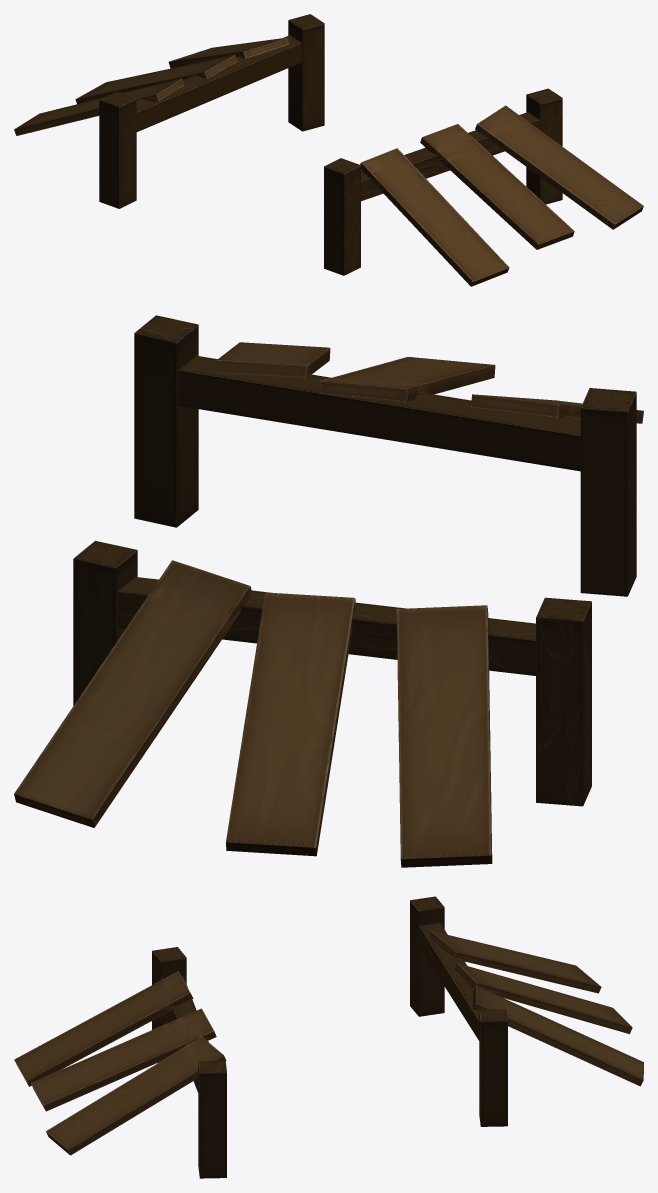
File: SmallWoodBridgeBROKEN.fbx
The picture shows the model from 3 angles, top to bottom: view 1: azimuth 30°, elevation 25°; view 2: azimuth 150°, elevation 25°; view 3: azimuth 270°, elevation 25°; orthographic projection. The views are drawn at different scales.
Parts seen in each view (by area): view 1: Boards_LOW, BoardWalkSupport_LOW; view 2: Boards_LOW, BoardWalkSupport_LOW; view 3: Boards_LOW, BoardWalkSupport_LOW.
Boxes of the visible parts, x1,y1,x2,y2 form: Boards_LOW: [14, 37, 643, 286]; BoardWalkSupport_LOW: [99, 14, 562, 275]; Boards_LOW: [14, 342, 643, 867]; BoardWalkSupport_LOW: [73, 315, 636, 806]; Boards_LOW: [14, 931, 643, 1155]; BoardWalkSupport_LOW: [152, 896, 507, 1178].
Size of the model in its own units: 394 by 100 by 541.
Materials: 2 (2 with a texture image).
